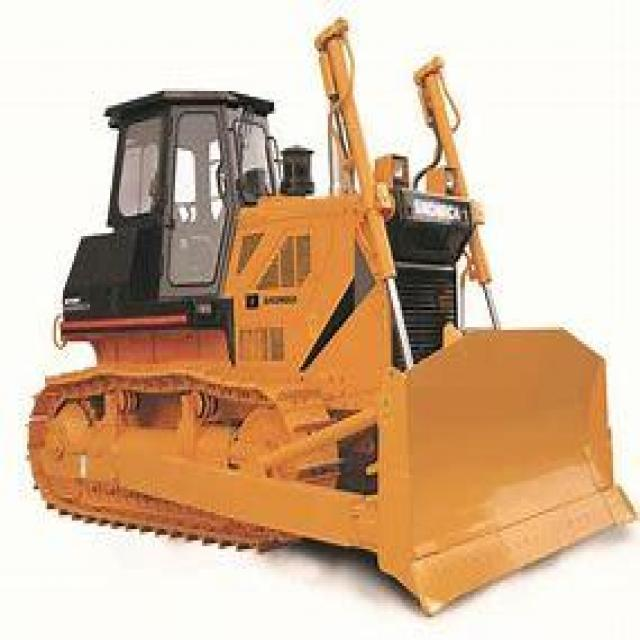Bulldozer: (13, 46, 631, 617)
